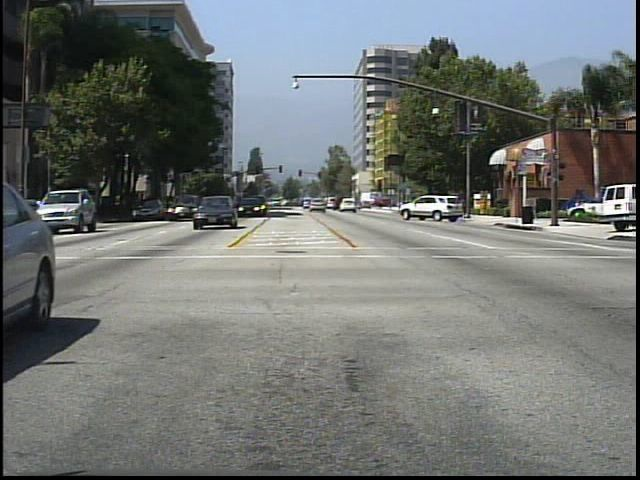person: (446, 188, 461, 220), (424, 189, 441, 215)
